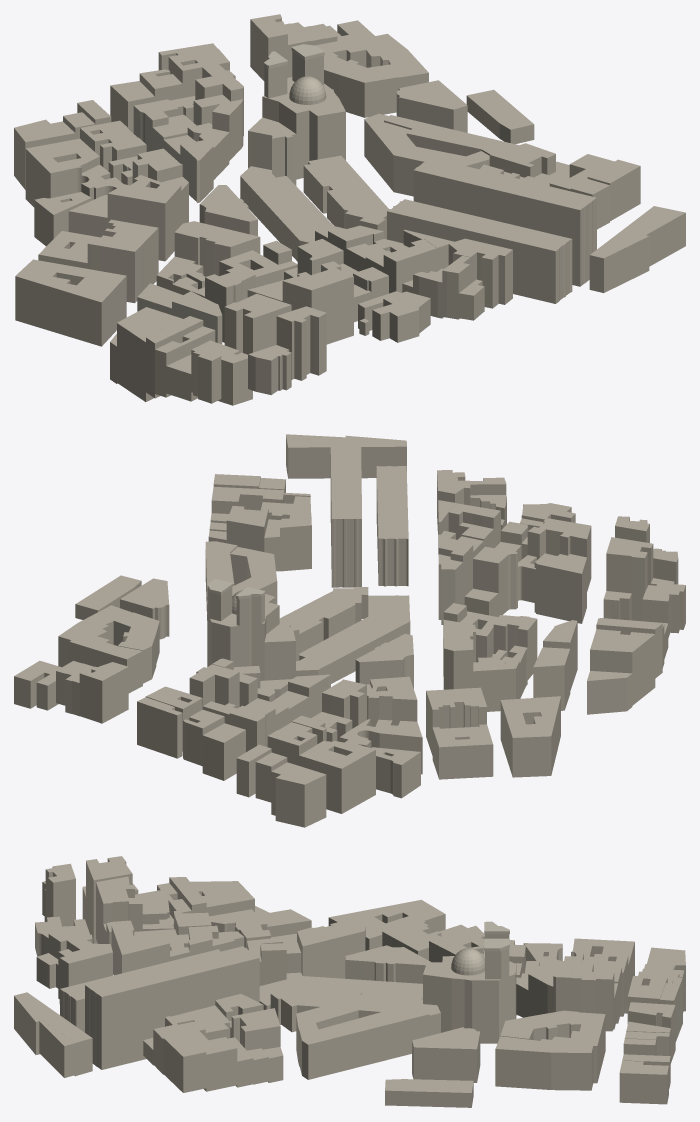
File: senglea_59_30_collision.glb
3 views of the same model, one above another, from view 1: azimuth 30°, elevation 25°; view 2: azimuth 150°, elevation 25°; view 3: azimuth 270°, elevation 25° (orthographic). The views are drawn at different scales.
Visible parts, largest first — view 1: geometry_0; view 2: geometry_0; view 3: geometry_0.
Boxes of the visible parts, bbox=[...] form: geometry_0: bbox=[14, 14, 685, 405]; geometry_0: bbox=[14, 434, 685, 827]; geometry_0: bbox=[14, 856, 685, 1107].
Size of the model in its own units: 160 by 48.56 by 193.
